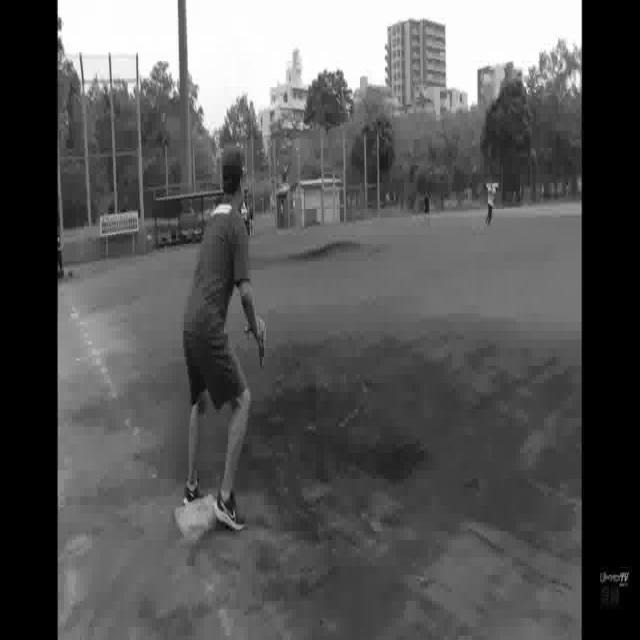base: (171, 495, 220, 544)
baseball_glove: (246, 315, 266, 363)
shoe: (216, 494, 247, 536), (182, 478, 204, 505)
